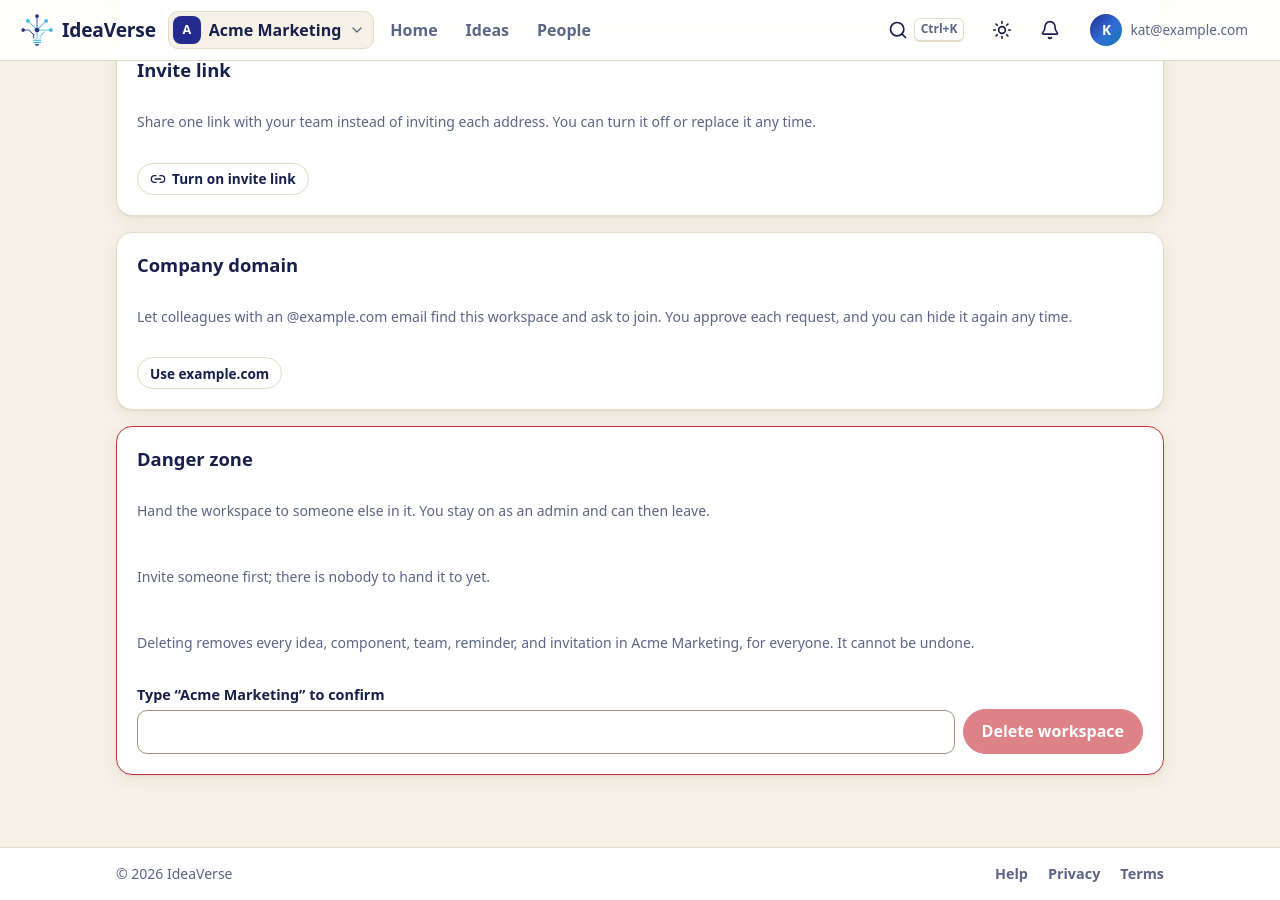
WorkspaceSettingsPage › deletes the workspace only after its name is typed
(page scrolled)
In the field labelled "Type “Acme Marketing” to confirm": {"x": 546, "y": 732} [137, 710, 955, 754], type "Acme"
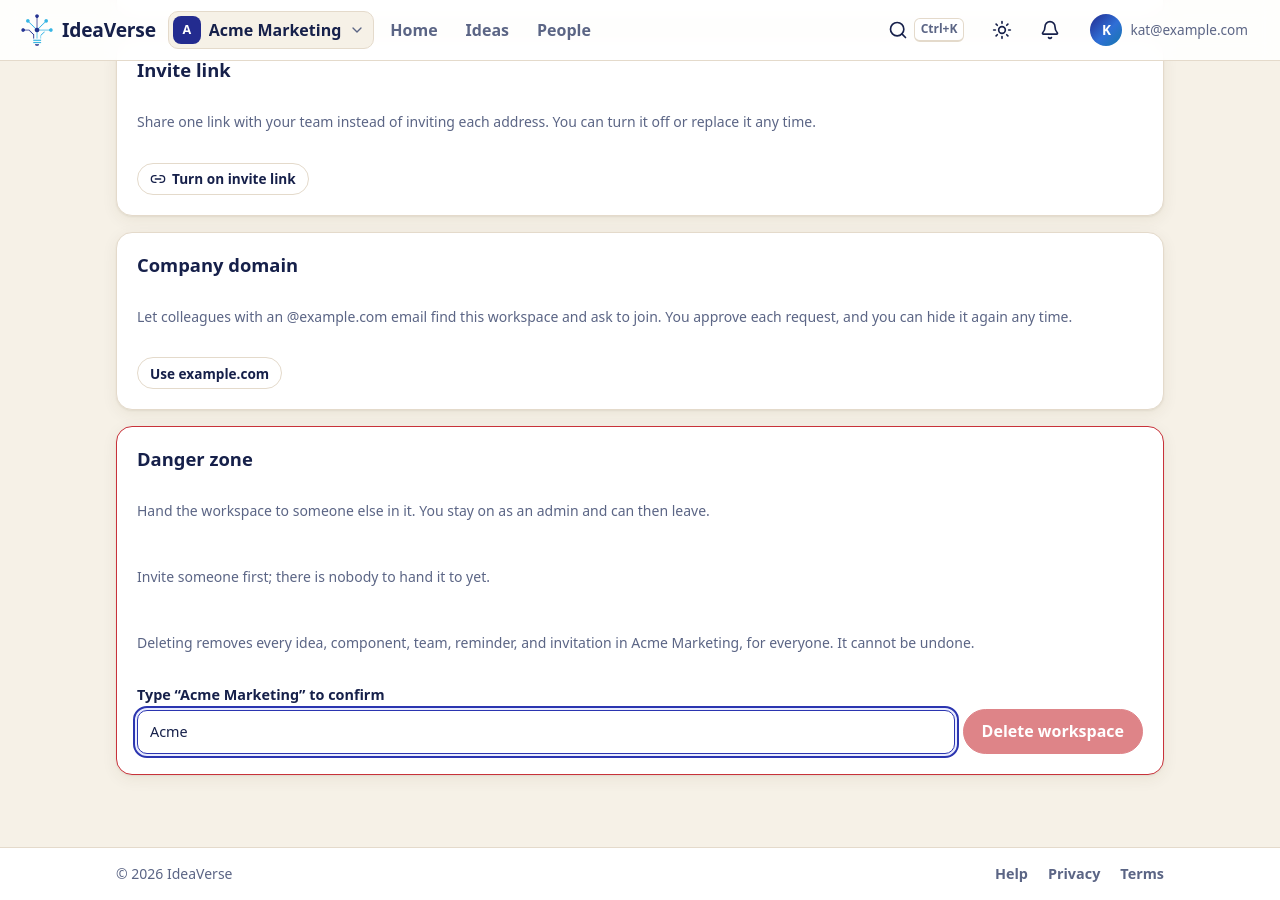
Check: the button "Delete workspace" is disabled, box [963, 709, 1143, 754]
In the field labelled "Type “Acme Marketing” to confirm": {"x": 546, "y": 732} [137, 710, 955, 754], type " Marketing"
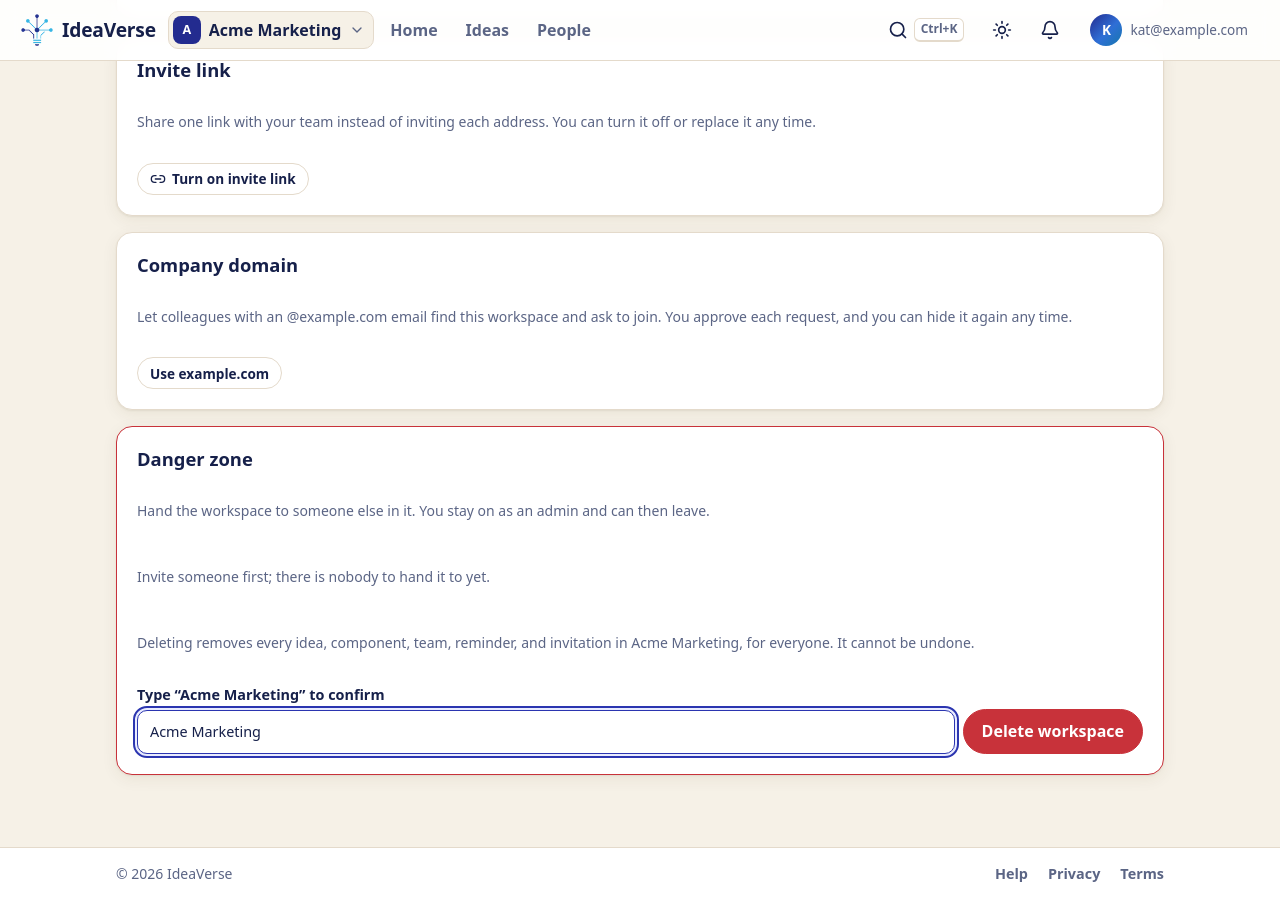
Click the button "Delete workspace": {"x": 1053, "y": 732} [963, 709, 1143, 754]
(page scrolled)
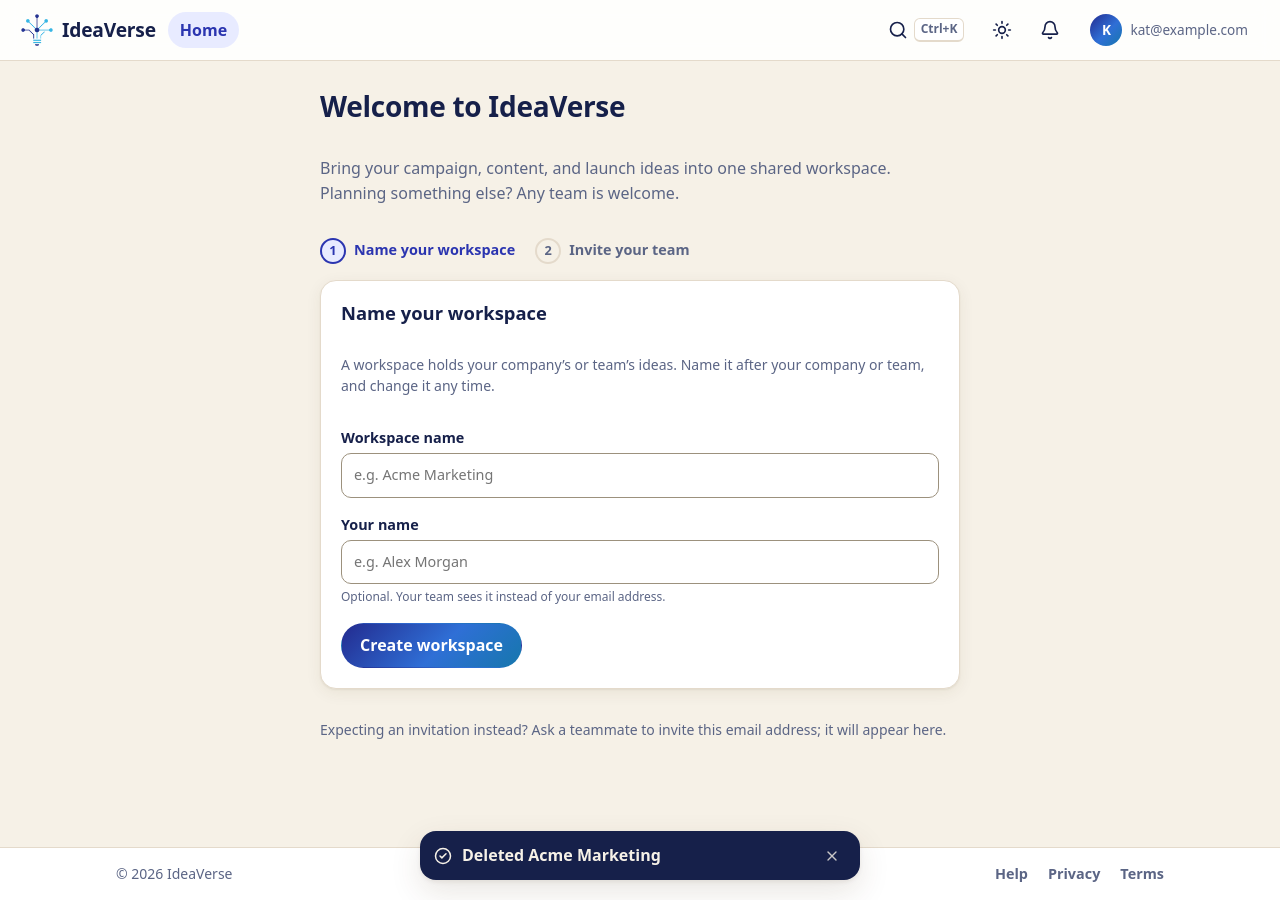
Check: the heading "Welcome to IdeaVerse" is shown, box [320, 87, 625, 125]
Check: the text "Deleted Acme Marketing" is shown, box [462, 844, 661, 866]
